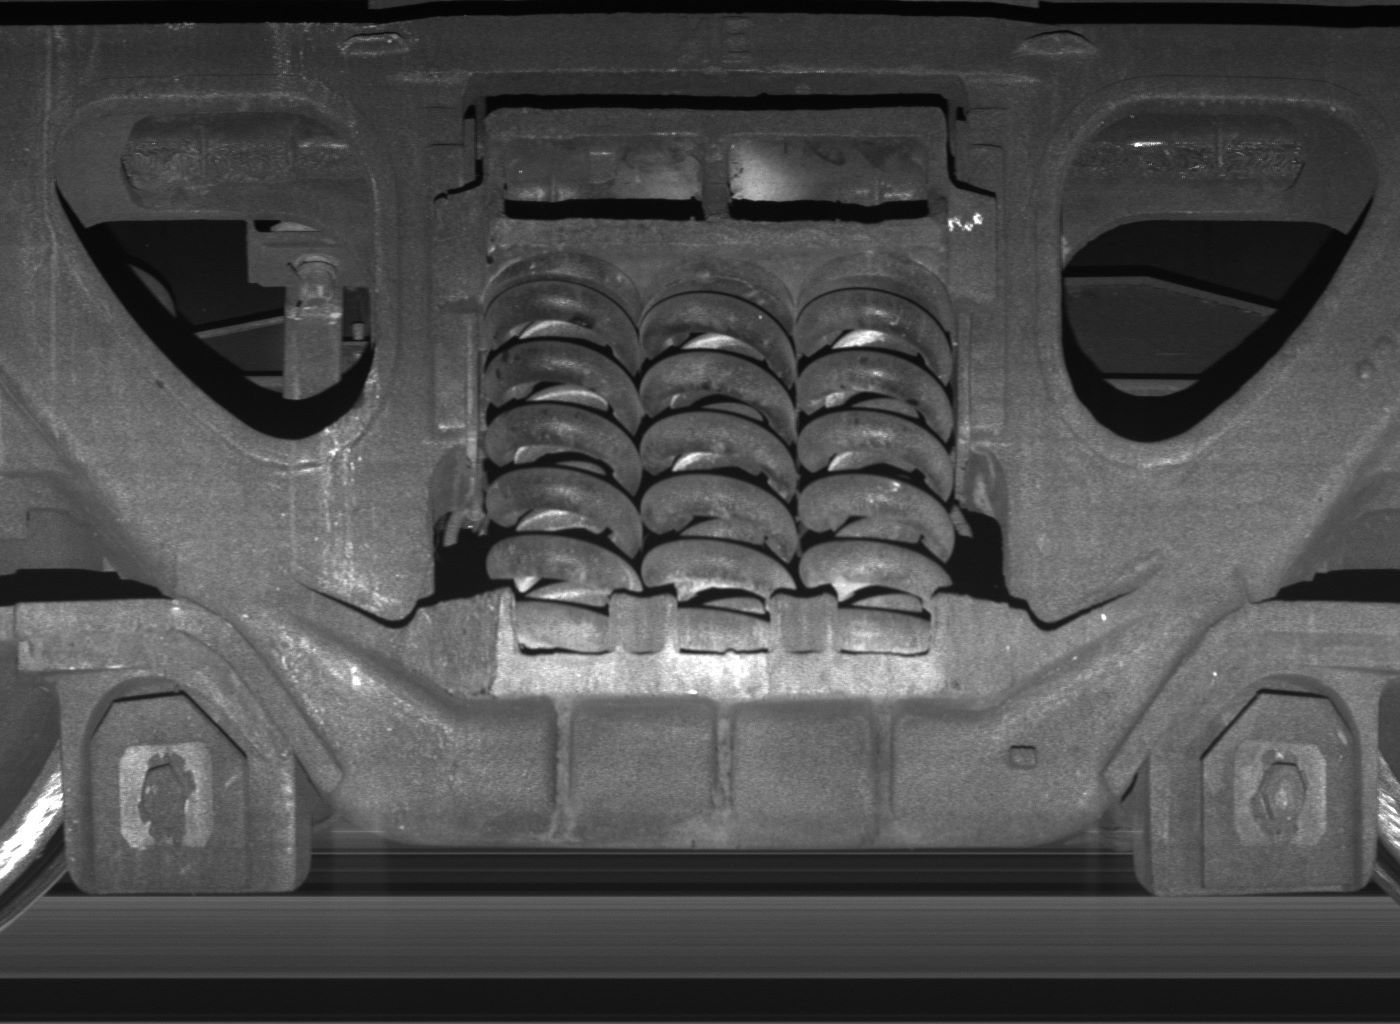normal: (57, 670, 293, 892), (1150, 665, 1377, 894)
